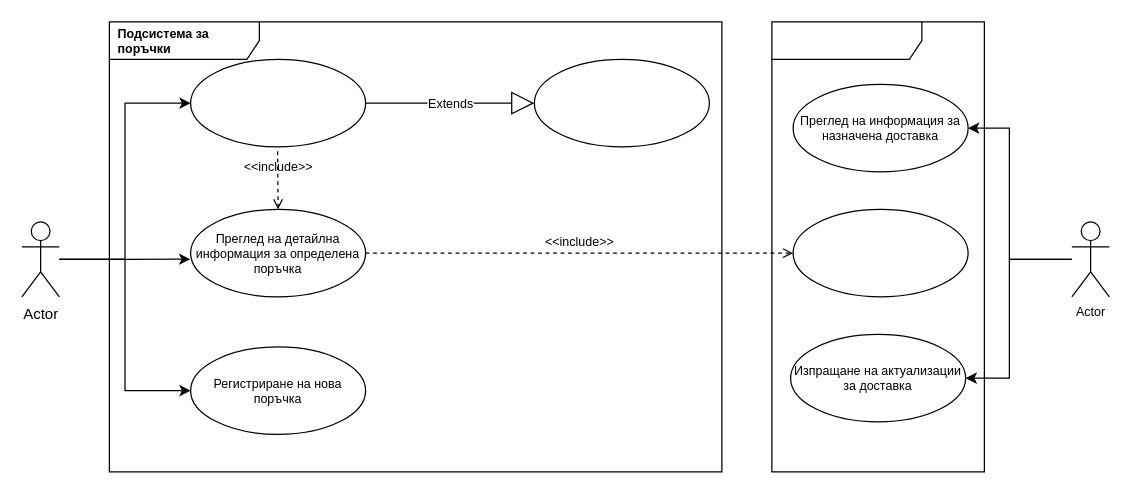
Some shapes in this 1131 by 494 pixel diagram are drawn without their labels. The box of each missing label's shape, as (x1, y1, x2, y2) in pixels:
Изпращане на промяна или анулиране нa поръчка: (533, 58, 709, 147)
Подсистема за доставки: (771, 21, 984, 472)
Преглед на доставки към съответна поръчка: (792, 208, 968, 297)
Преглед на списък с поръчки: (189, 58, 366, 147)
